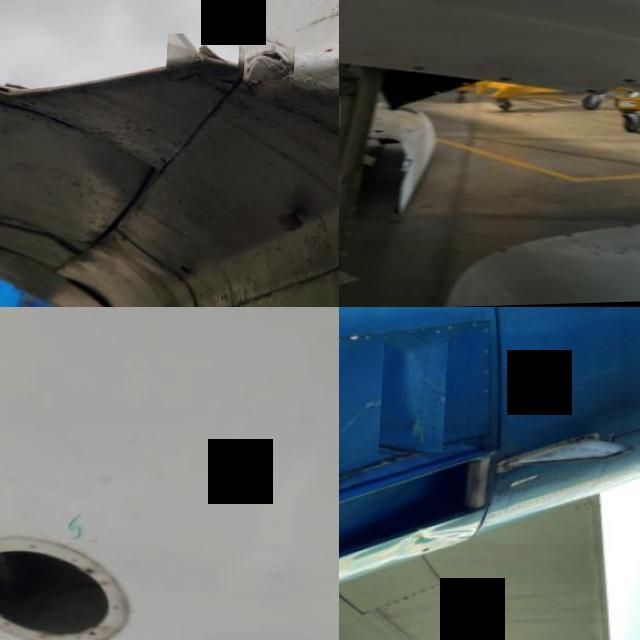Crack: (168, 34, 242, 82), (247, 32, 298, 82), (64, 503, 102, 545)
Dent: (384, 334, 448, 456)
Missing_Fastener: (407, 64, 433, 76), (582, 90, 604, 98), (624, 80, 638, 88), (502, 77, 514, 86)
